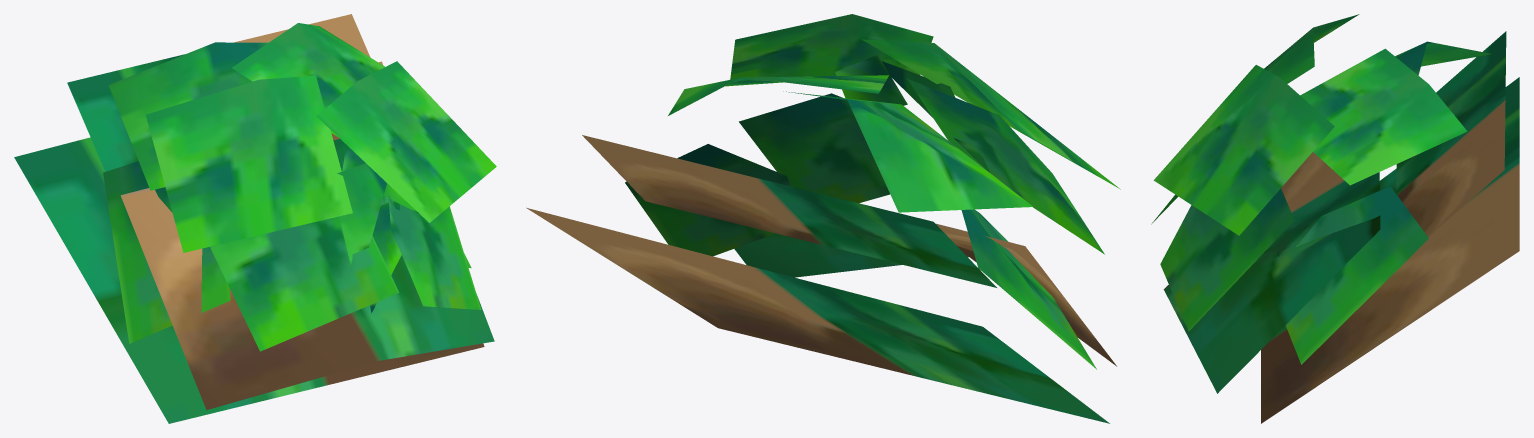
The model's file is fg_bushB_2_wt.dae.
3 renders of one model, left to right at view 1: azimuth 30°, elevation 25°; view 2: azimuth 150°, elevation 25°; view 3: azimuth 270°, elevation 25°, orthographic. The views are drawn at different scales.
Parts seen in each view (by area): view 1: fg_bushB_2_wt; view 2: fg_bushB_2_wt; view 3: fg_bushB_2_wt.
Boxes of the visible parts, x1=… form: fg_bushB_2_wt: x1=14, y1=14, x2=496, y2=423; fg_bushB_2_wt: x1=526, y1=14, x2=1120, y2=423; fg_bushB_2_wt: x1=1151, y1=14, x2=1519, y2=423.
Bounding box in the file's own units: 43.24 × 33.37 × 37.45.
Materials: 1 (1 with a texture image).
